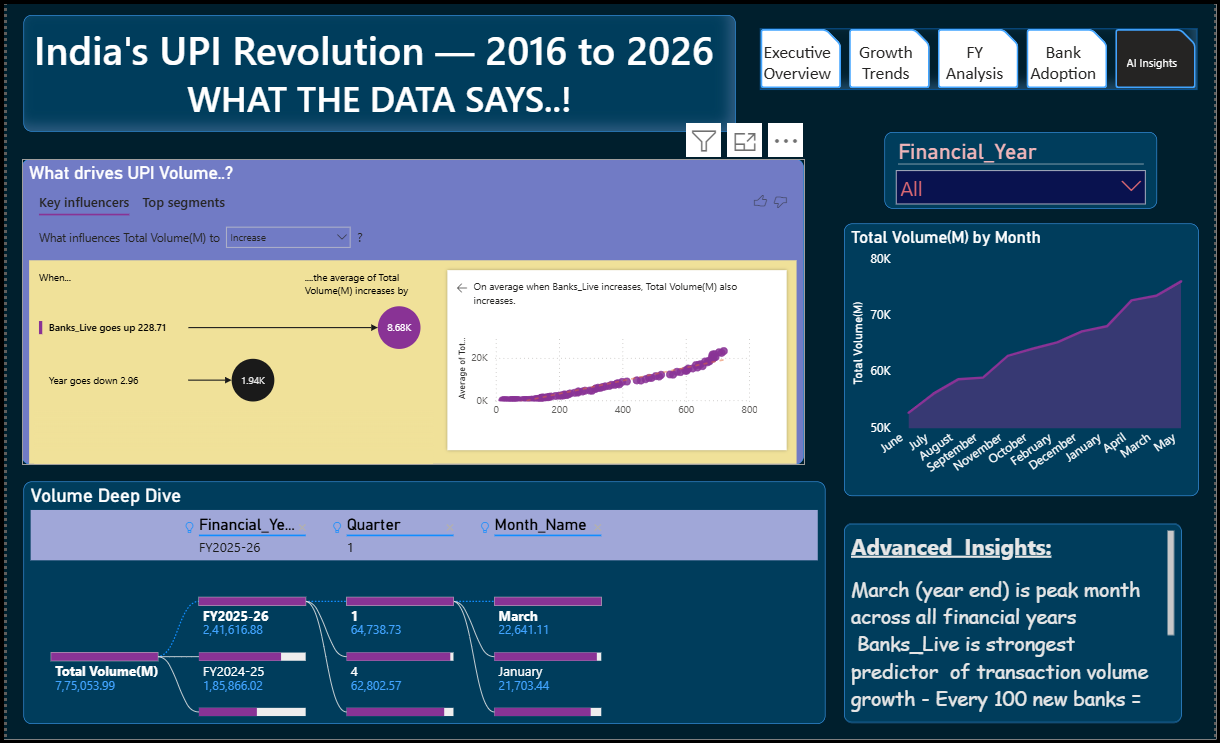

The page's visual inventory and layout, read from the dashboard file:
{"tool":"powerbi","page":{"name":"AI Insights","canvas":[1470,900],"ordinal":4},"visuals":[{"type":"textbox","box":[20.9,18.6,867.6,141.9],"z":0},{"type":"keyDriversVisual","title":"What drives UPI Volume..?","fields":{"Details":["upi_transactions.Year","upi_transactions.Quarter"],"ExplainBy":["upi_transactions.Year","upi_transactions.Quarter","upi_transactions.Month_Name","upi_transactions.Banks_Live","-Measures.YOY Growth %"],"Target":["-Measures.Total Volume"]},"box":[19.1,193.3,952.2,372.3],"z":1000},{"type":"textbox","box":[1019.4,637.6,411,243],"z":2000},{"type":"areaChart","title":"Total Volume(M) by Month","fields":{"Category":["upi_transactions.Month_Name"],"Y":["-Measures.Total Volume"]},"box":[1019,272,431.9,331.7],"z":3000},{"type":"decompositionTreeVisual","title":"Volume Deep Dive","fields":{"Analyze":["-Measures.Total Volume"],"ExplainBy":["upi_transactions.Financial_Year","upi_transactions.Quarter","upi_transactions.Month_Name"]},"box":[20.9,586.1,976.9,295.4],"z":4000},{"type":"pageNavigator","box":[916.4,34.9,532.6,74.4],"z":5000},{"type":"slicer","fields":{"Values":["upi_transactions.Financial_Year"]},"box":[1069.1,159.9,331.7,93.1],"z":5001}]}

Visuals, with their boxes in screenshot pixels (x1, y1, x2, y2), scaled from the page's 1470x900 canvas onto the 1220x743 screenshot:
textbox: (17, 15, 737, 133)
"What drives UPI Volume..?" keyDriversVisual: (16, 160, 806, 467)
textbox: (846, 526, 1187, 727)
"Total Volume(M) by Month" areaChart: (846, 225, 1204, 498)
"Volume Deep Dive" decompositionTreeVisual: (17, 484, 828, 728)
pageNavigator: (761, 29, 1203, 90)
slicer - upi_transactions.Financial_Year: (887, 132, 1163, 209)
